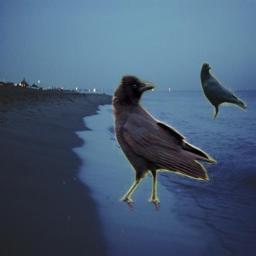Crow: (111, 74, 217, 211), (200, 61, 247, 119)
